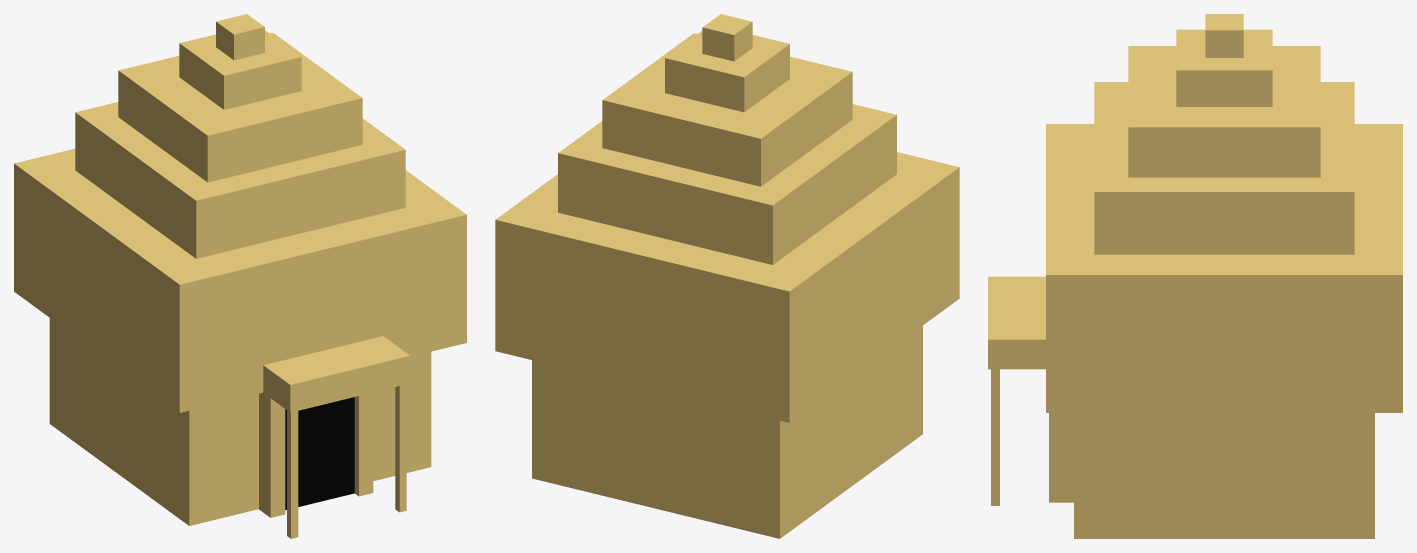
The model's file is hut.FBX.
3 views of the same model, side by side, from view 1: azimuth 30°, elevation 25°; view 2: azimuth 150°, elevation 25°; view 3: azimuth 270°, elevation 25° (orthographic). The views are drawn at different scales.
Parts seen in each view (by area): view 1: hut; view 2: hut; view 3: hut.
Part boxes in pixels (bbox=[...]): hut: bbox=[14, 14, 466, 538]; hut: bbox=[495, 14, 959, 538]; hut: bbox=[988, 14, 1402, 538].
Size of the model in its own units: 78.52 by 110 by 91.29.
